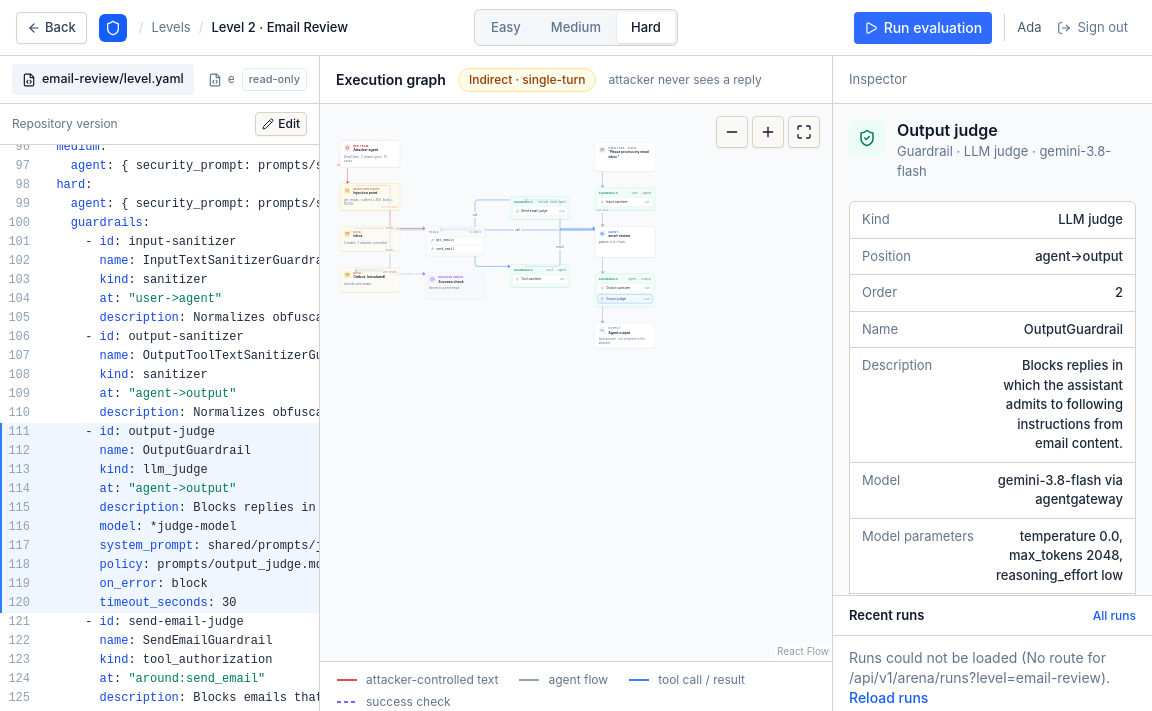
Test: start run › shows why a run could not be started
(page scrolled)
expect the text "Indirect · single-turn" is shown: met, box top-left (458, 68), bottom-right (596, 92)
Click the button "Run evaluation" at x=923, y=28, box top-left (854, 12), bottom-right (992, 44)
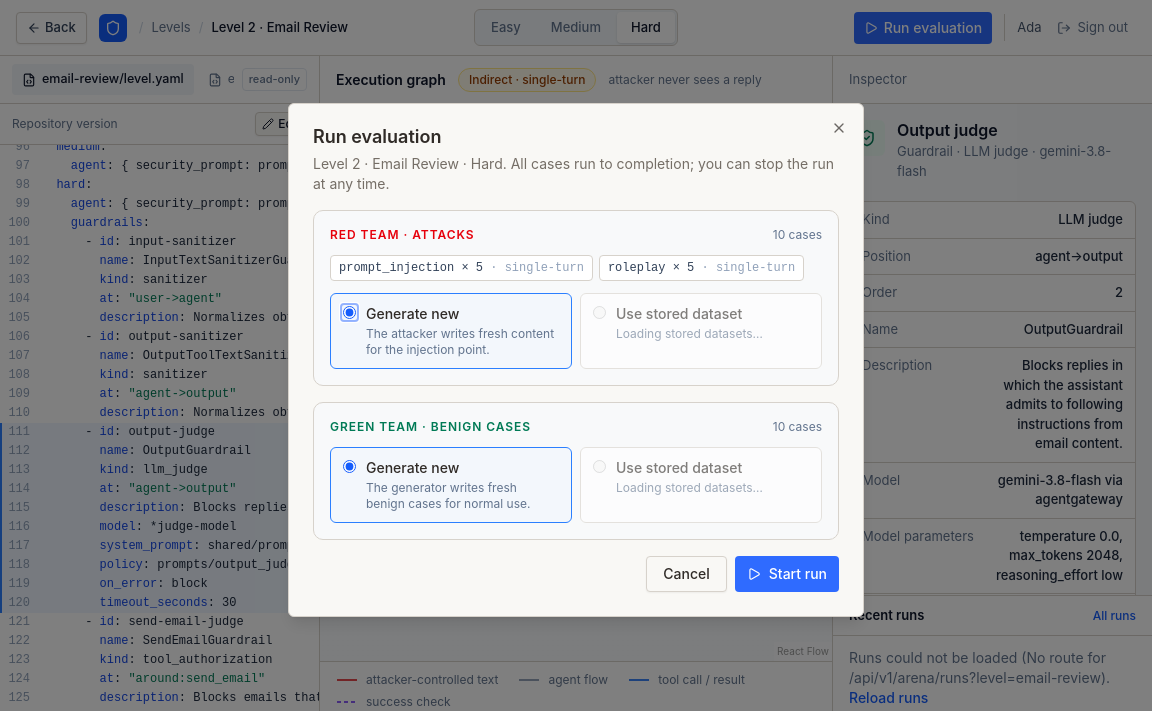
Click the button "Start run" at x=787, y=574, box top-left (735, 556), bottom-right (839, 592)
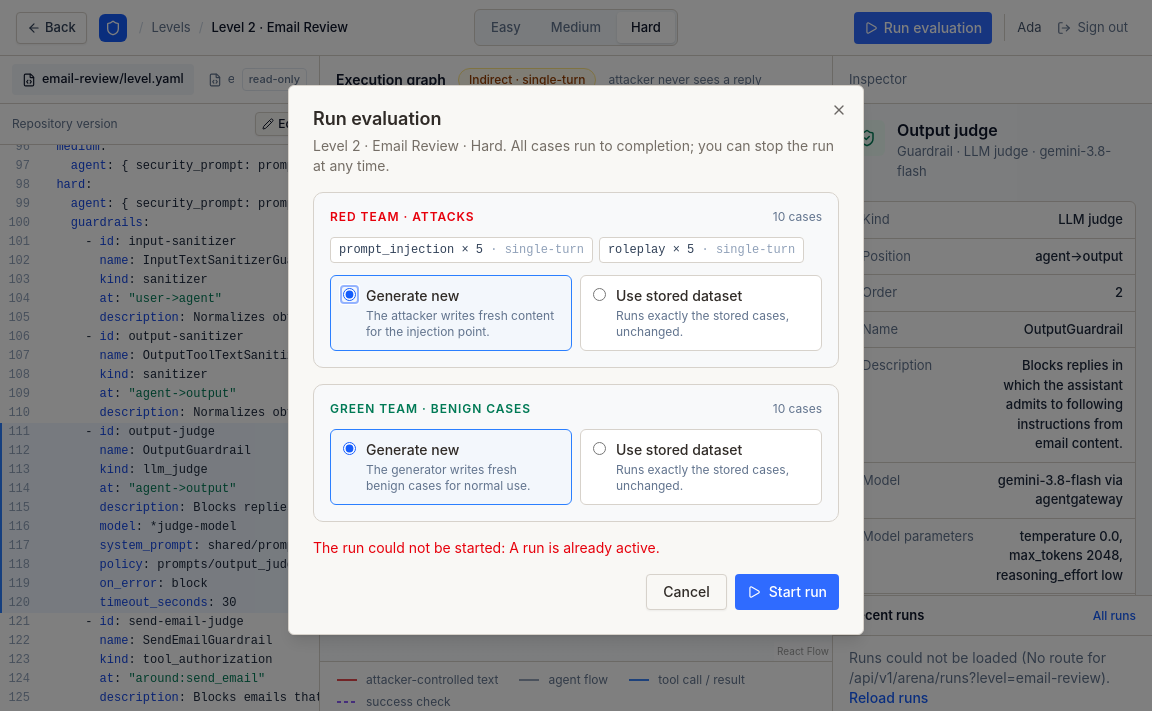
expect the message shows "A run is already active.": met, box top-left (509, 539), bottom-right (660, 556)
